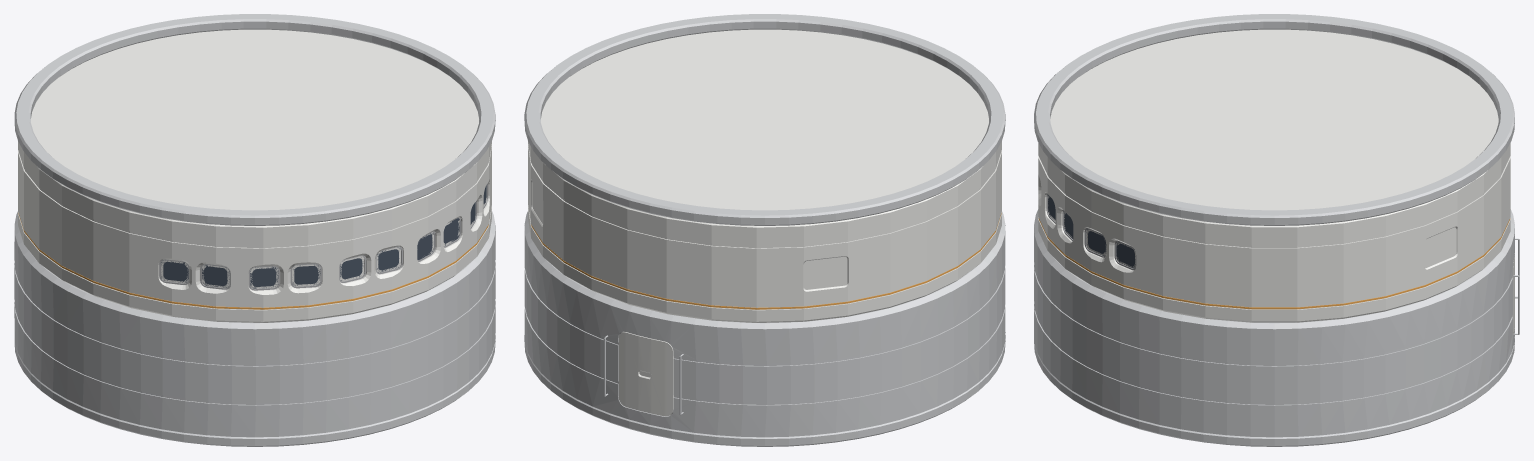
File: ax_cmd_07_command_deck.glb
3 renders of one model, left to right at view 1: azimuth 30°, elevation 25°; view 2: azimuth 150°, elevation 25°; view 3: azimuth 270°, elevation 25°, orthographic.
Visible parts, largest first — view 1: window_band, stainless_barrel, interface_rings, window_glass, window_frames, orange_stripes; view 2: window_band, stainless_barrel, interface_rings, hatch_door_1, orange_stripes; view 3: window_band, stainless_barrel, interface_rings, orange_stripes, window_glass.
Boxes of the visible parts, x1=… form: window_band: x1=18, y1=29, x2=491, y2=322; stainless_barrel: x1=14, y1=211, x2=495, y2=437; interface_rings: x1=14, y1=14, x2=495, y2=446; window_glass: x1=161, y1=185, x2=486, y2=288; window_frames: x1=159, y1=183, x2=487, y2=290; orange_stripes: x1=18, y1=213, x2=488, y2=309; window_band: x1=528, y1=29, x2=1001, y2=322; stainless_barrel: x1=524, y1=211, x2=1005, y2=437; interface_rings: x1=524, y1=14, x2=1005, y2=446; hatch_door_1: x1=618, y1=331, x2=673, y2=416; orange_stripes: x1=531, y1=213, x2=1001, y2=309; window_band: x1=1038, y1=29, x2=1510, y2=322; stainless_barrel: x1=1034, y1=209, x2=1514, y2=437; interface_rings: x1=1034, y1=14, x2=1514, y2=446; orange_stripes: x1=1038, y1=218, x2=1510, y2=309; window_glass: x1=1048, y1=195, x2=1135, y2=268.
Bounding box in the file's own units: 7.5 × 3.98 × 7.58.
